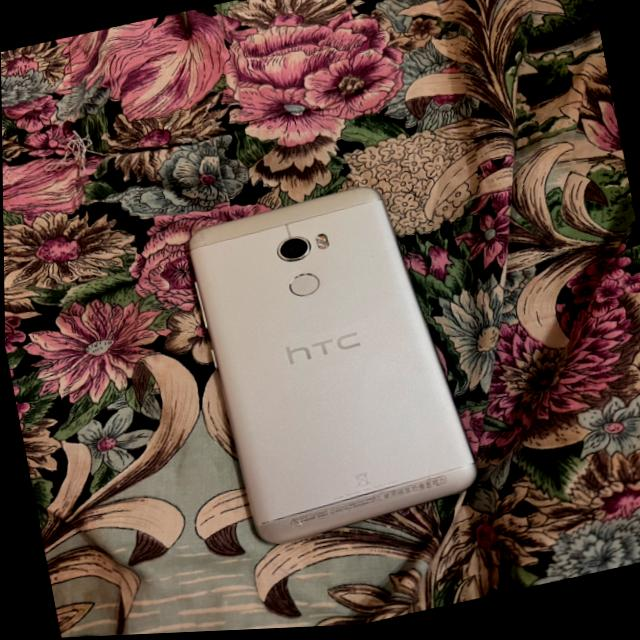Smartphone: (188, 190, 475, 547)
